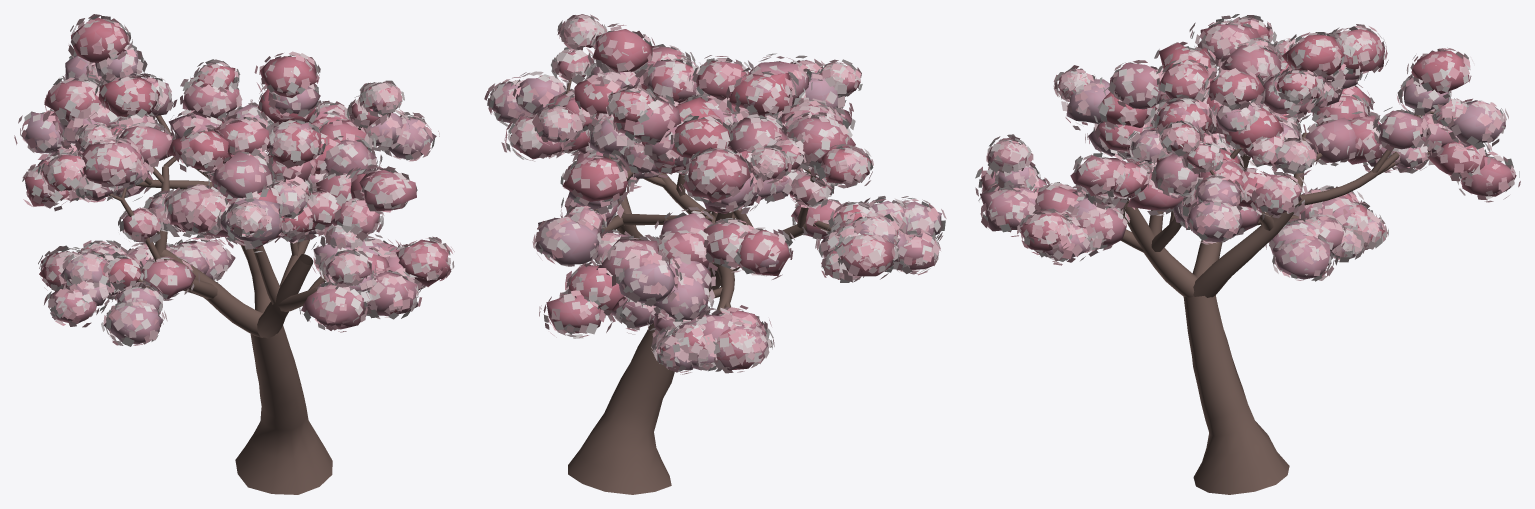
File: cherrya.glb
3 renders of one model, left to right at view 1: azimuth 30°, elevation 25°; view 2: azimuth 150°, elevation 25°; view 3: azimuth 270°, elevation 25°, orthographic. The views are drawn at different scales.
Visible parts, largest first — view 1: CherryA_flowers, CherryA_blossom, CherryA_bark; view 2: CherryA_flowers, CherryA_blossom, CherryA_bark; view 3: CherryA_flowers, CherryA_blossom, CherryA_bark.
Part boxes in pixels (<box>): CherryA_flowers: <box>14,14,454,346</box>; CherryA_blossom: <box>21,17,451,344</box>; CherryA_bark: <box>109,115,361,494</box>; CherryA_flowers: <box>484,14,946,374</box>; CherryA_blossom: <box>491,18,942,370</box>; CherryA_bark: <box>566,78,832,494</box>; CherryA_flowers: <box>975,14,1520,281</box>; CherryA_blossom: <box>980,19,1516,279</box>; CherryA_bark: <box>1121,111,1434,494</box>.
Size of the model in its own units: 5.52 by 5.53 by 6.59.
